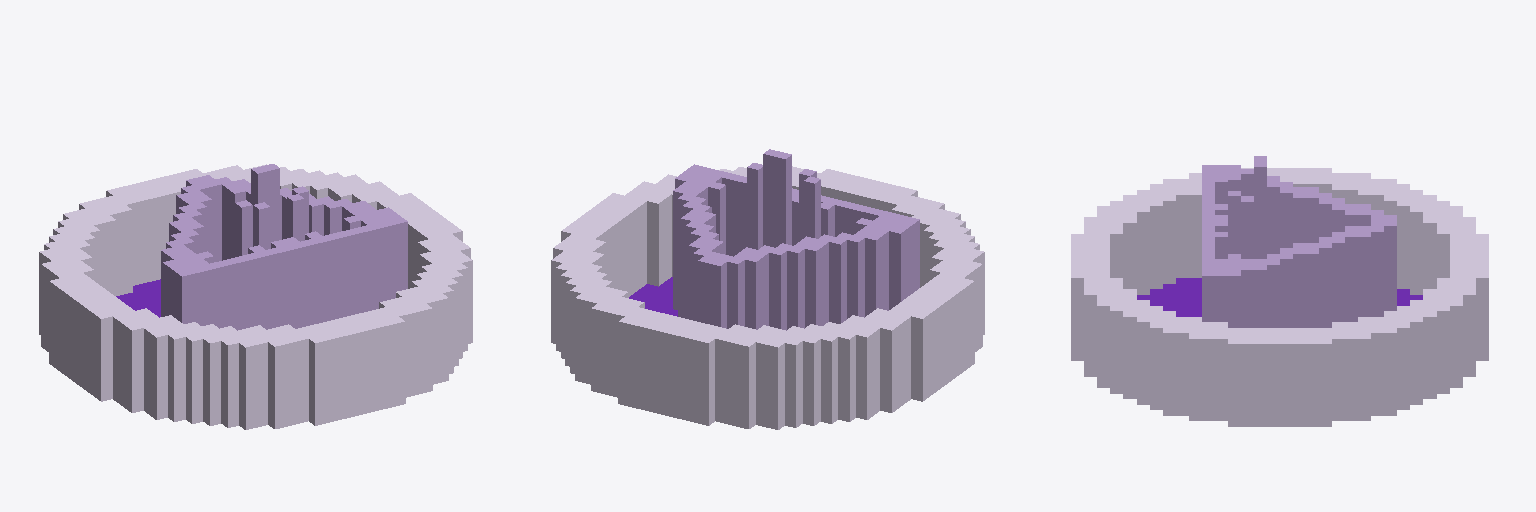
The picture shows the model from 3 angles: view 1: azimuth 30°, elevation 25°; view 2: azimuth 150°, elevation 25°; view 3: azimuth 270°, elevation 25°; orthographic projection.
Parts seen in each view (by area): view 1: object 1; view 2: object 1; view 3: object 1.
Boxes of the visible parts, box(x1,y1,x2,y2) form: object 1: box(39, 164, 472, 429); object 1: box(551, 149, 984, 429); object 1: box(1071, 156, 1488, 426).
Bounding box in the file's own units: 3.2 × 1.6 × 3.2.
1 materials, 1 textured.